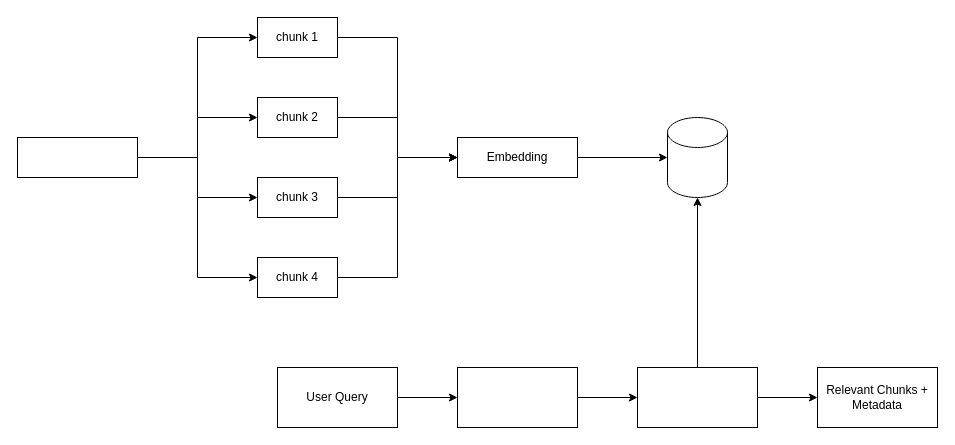
The diagram is 955 pixels wide and 445 high, and some of its shapes have lost their labels. The shapes that lost their labels are listed below. From the top down, each one's centre as x and y in pixels, then its label:
At (x=77, y=157): "data injection".
At (x=697, y=157): "Vector Database".
At (x=517, y=397): "Embedding Model".
At (x=697, y=397): "Similarity Search".
